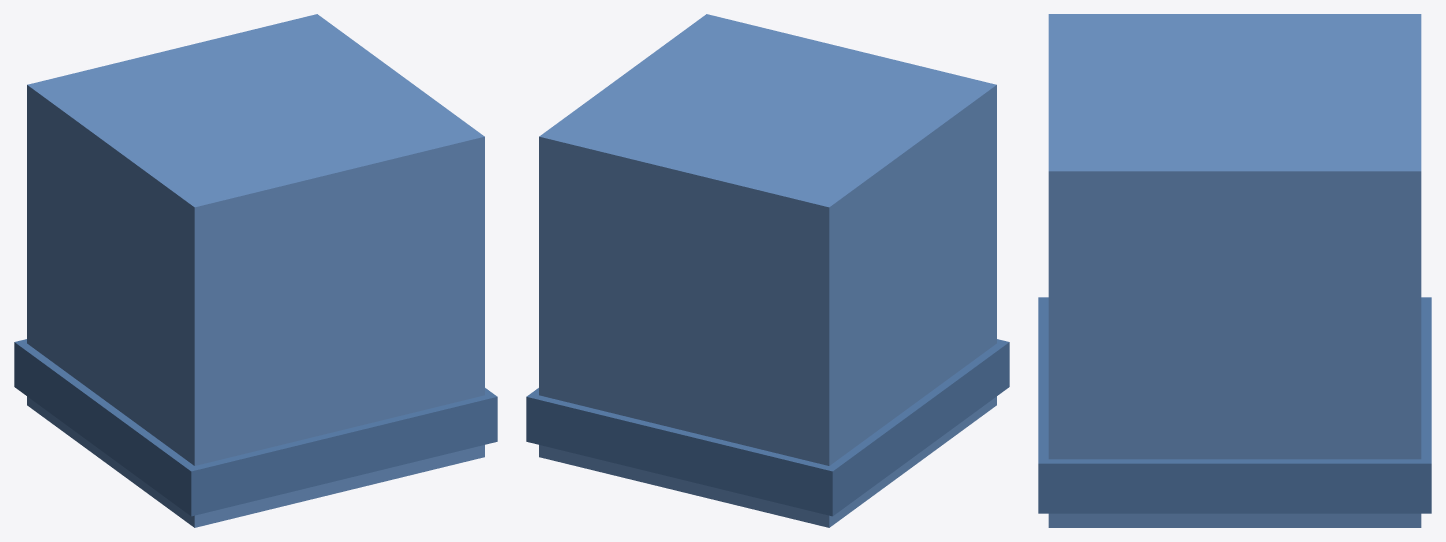
Rendered from fazendeiro_canela.glb.
3 renders of one model, left to right at view 1: azimuth 30°, elevation 25°; view 2: azimuth 150°, elevation 25°; view 3: azimuth 270°, elevation 25°, orthographic. The views are drawn at different scales.
Visible parts, largest first — view 1: fazendeiro_canela; view 2: fazendeiro_canela; view 3: fazendeiro_canela.
Part boxes in pixels (x1,y1,x2,y2): fazendeiro_canela: (14,14,497,527); fazendeiro_canela: (526,14,1009,527); fazendeiro_canela: (1038,14,1431,527).
Bounding box in the file's own units: 0.285 × 0.285 × 0.285.
